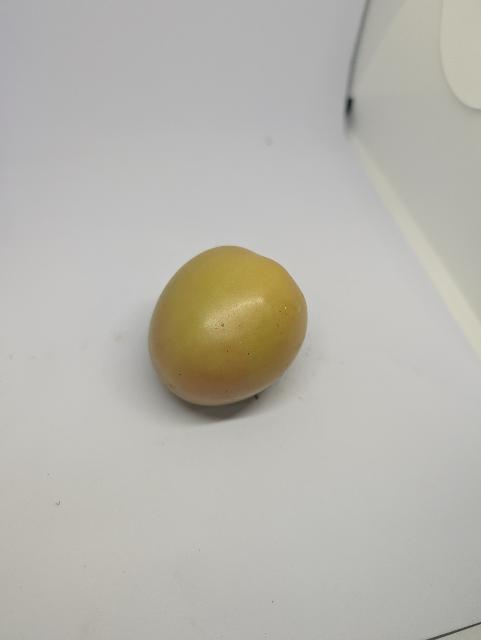breaker: (142, 241, 319, 417)
